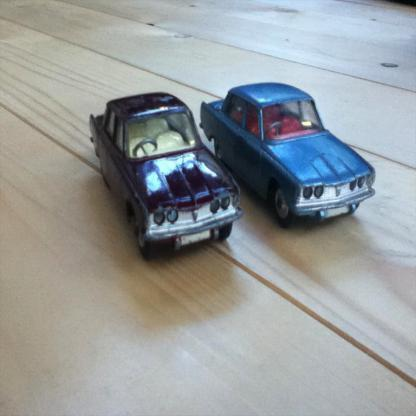Car: (88, 90, 244, 258), (200, 79, 378, 225)
